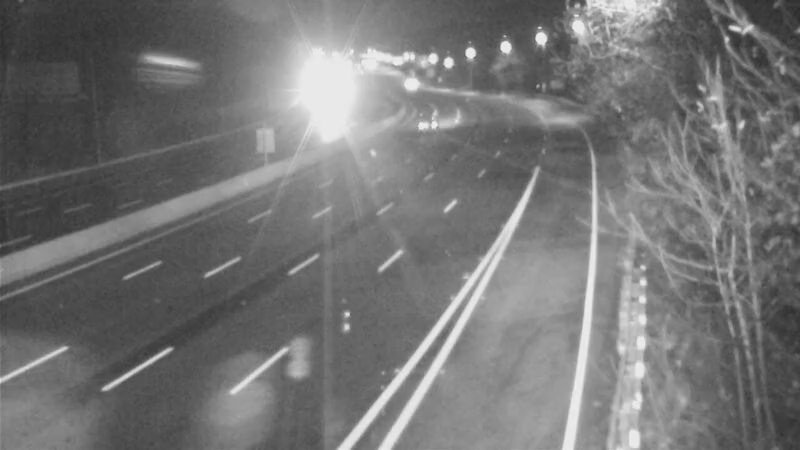vehicle: (378, 60, 428, 110), (404, 99, 454, 149), (301, 73, 351, 123)
